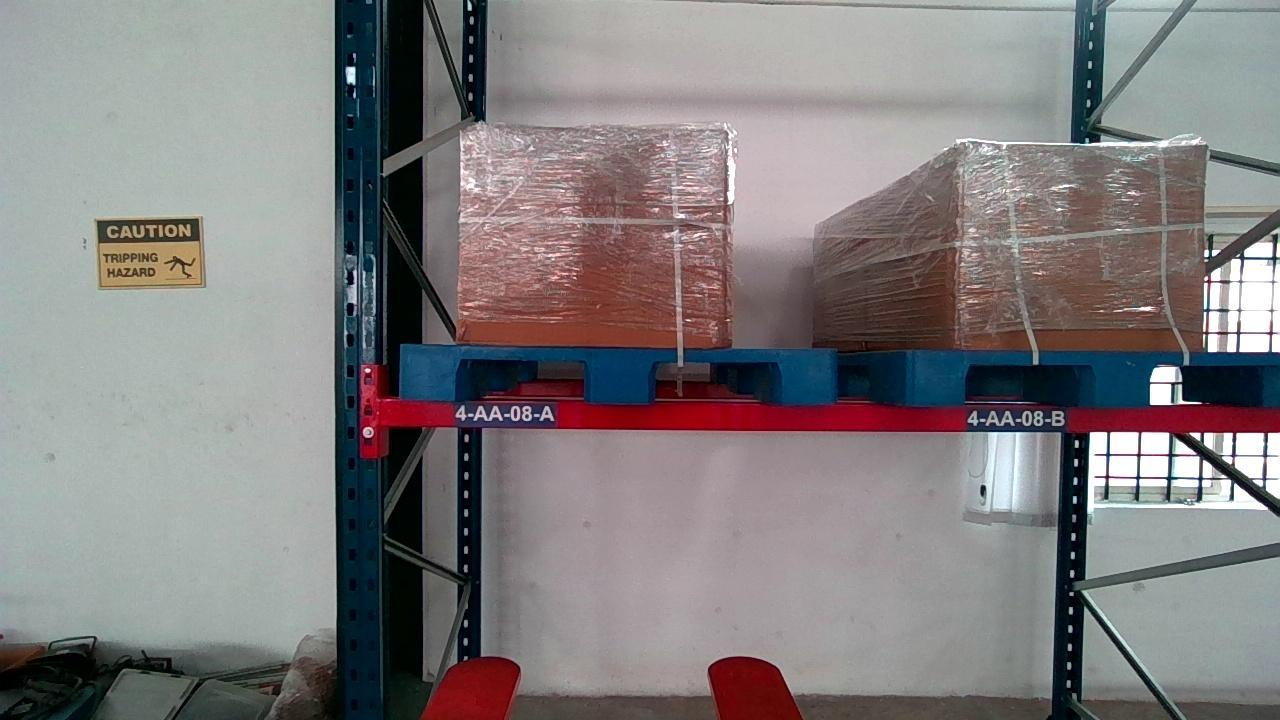h_rack: (380, 399, 1278, 430)
small_pallet: (400, 346, 835, 402), (909, 348, 1280, 407)
